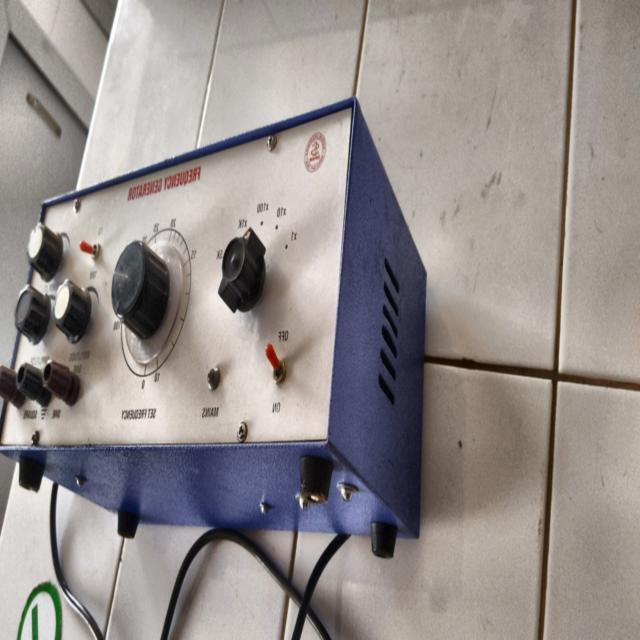Analog Frequency Generator: (1, 114, 370, 522)
